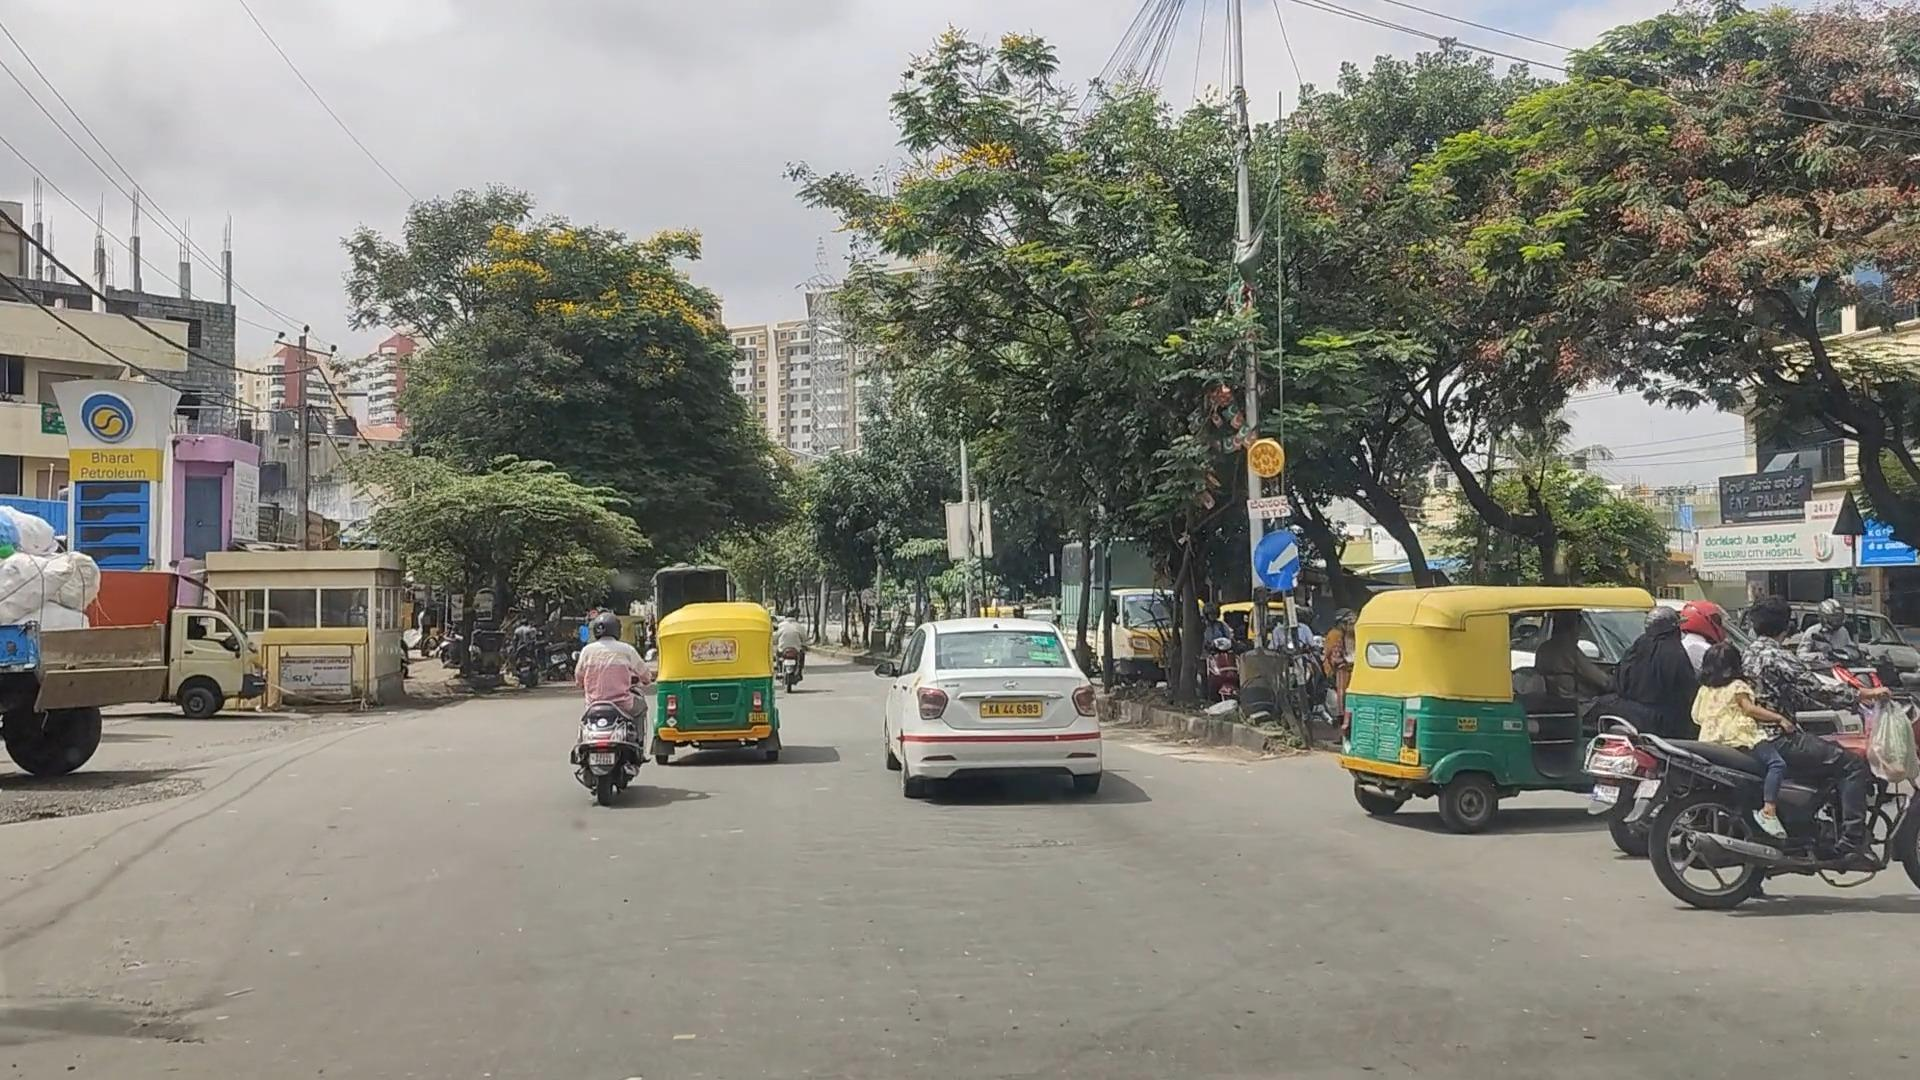LMV: (869, 622, 1110, 816), (649, 599, 782, 762), (584, 608, 649, 822)
